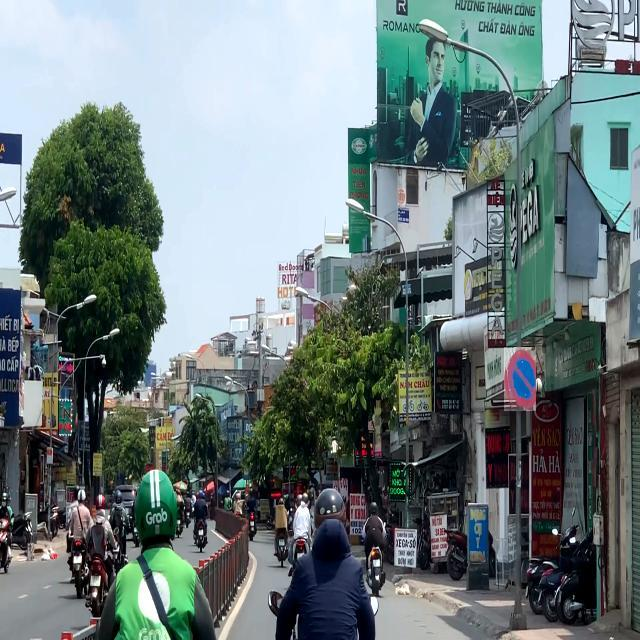P-131a: (504, 347, 536, 411)
